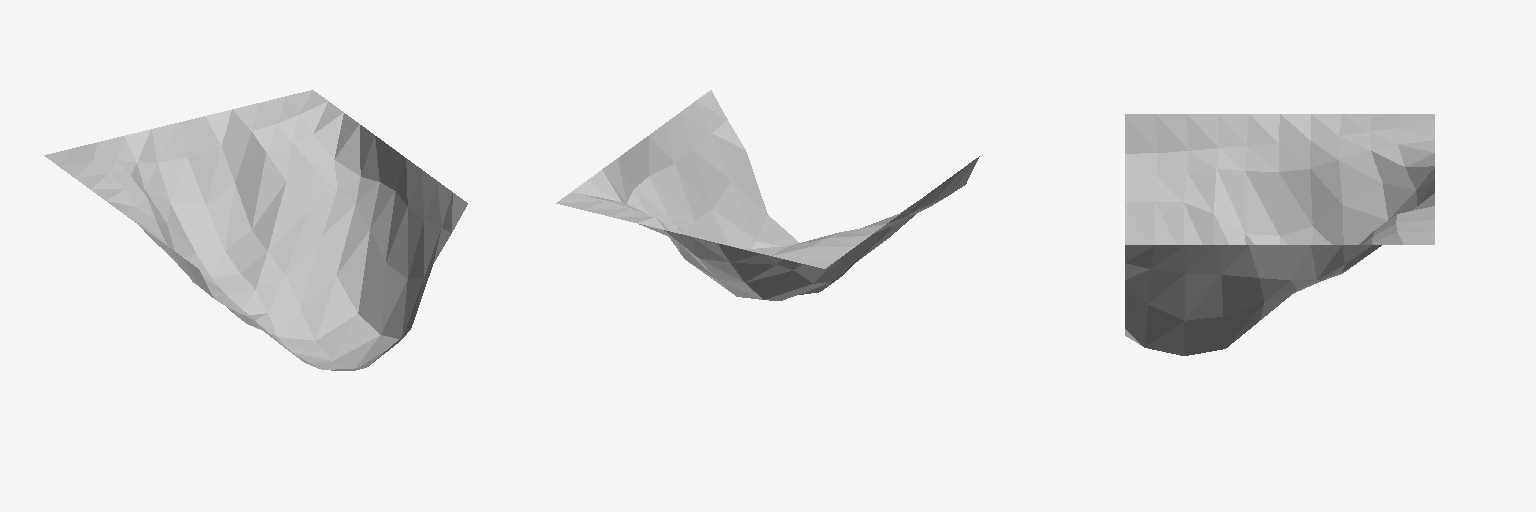
The model's file is des_trench_end_n.obj.
The picture shows the model from 3 angles: view 1: azimuth 30°, elevation 25°; view 2: azimuth 150°, elevation 25°; view 3: azimuth 270°, elevation 25°; orthographic projection.
Parts seen in each view (by area): view 1: polySurface3 polySurface2 trench2; view 2: polySurface3 polySurface2 trench2; view 3: polySurface3 polySurface2 trench2.
Boxes of the visible parts, x1=… form: polySurface3 polySurface2 trench2: x1=44, y1=90, x2=467, y2=370; polySurface3 polySurface2 trench2: x1=556, y1=90, x2=979, y2=300; polySurface3 polySurface2 trench2: x1=1125, y1=114, x2=1434, y2=355.
Size of the model in its own units: 1 by 0.5519 by 1.